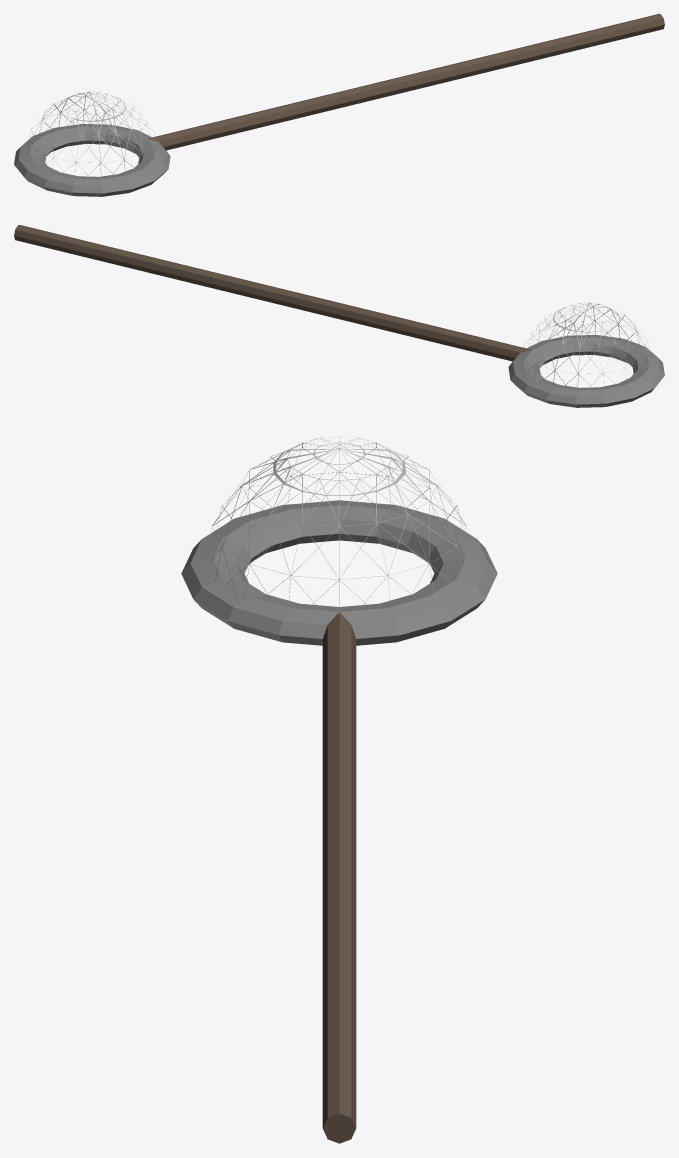
File: Scoop-net.fbx
3 renders of one model, top to bottom at view 1: azimuth 30°, elevation 25°; view 2: azimuth 150°, elevation 25°; view 3: azimuth 270°, elevation 25°, orthographic. The views are drawn at different scales.
Visible parts, largest first — view 1: Net; view 2: Net; view 3: Net.
Boxes of the visible parts, <box> form: Net: <box>14,14,664,196</box>; Net: <box>14,225,664,407</box>; Net: <box>181,436,497,1143</box>.
Bounding box in the file's own units: 1250 × 131 × 269.
